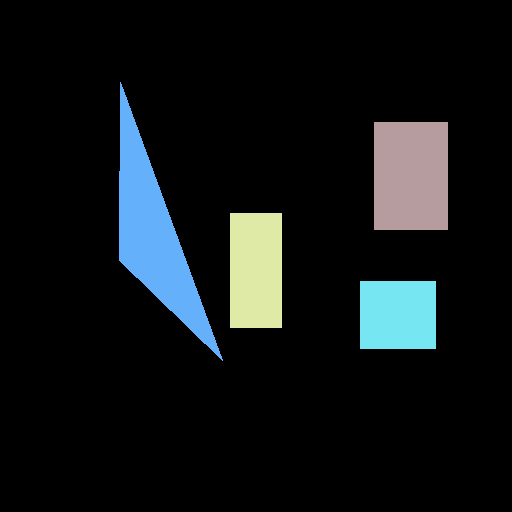rectangle: (374, 122, 447, 229), (230, 213, 281, 327), (360, 281, 435, 348)
triangle: (119, 82, 222, 360)
